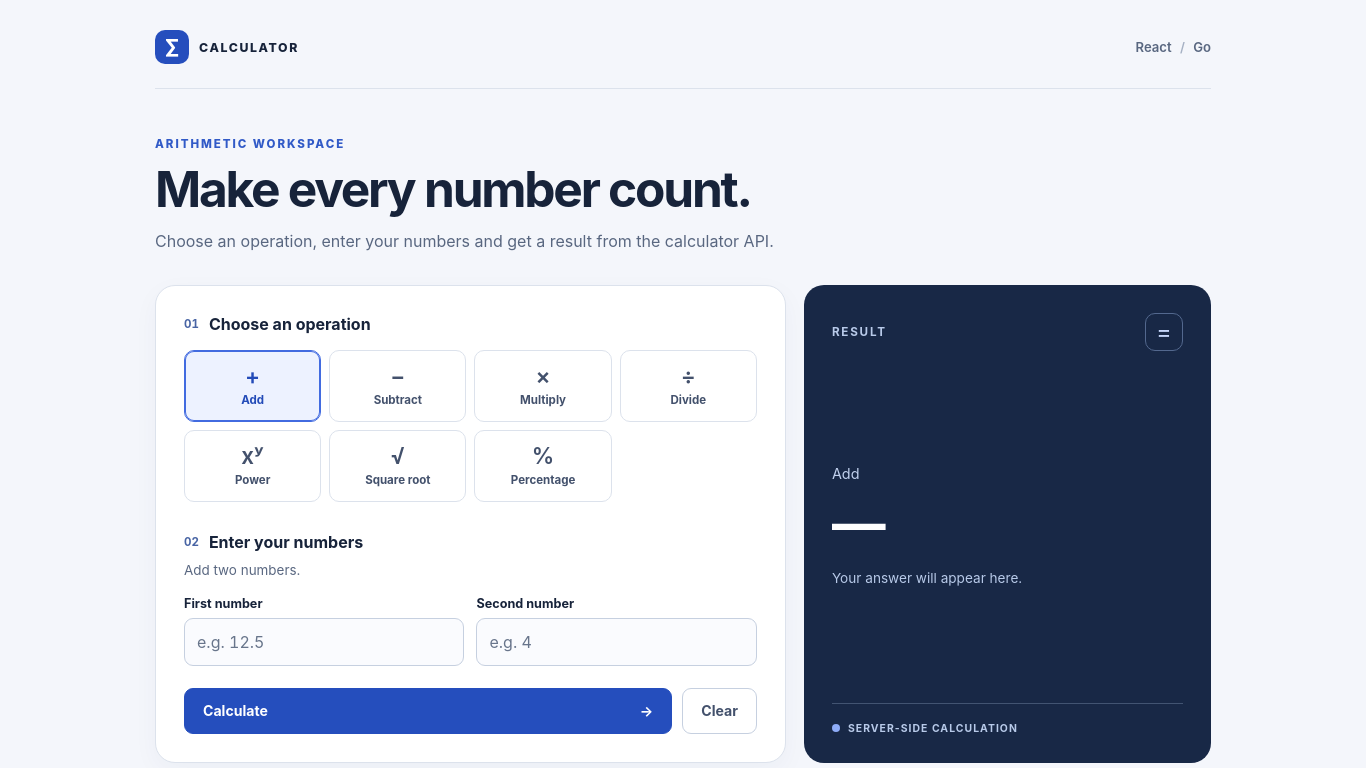
calculator interface › renders zero and clears stale results when a number is edited
This screenshot has width=1366, height=768.
Type "0" into the field labelled "First number" at [324, 642], box 184,618 -> 464,666
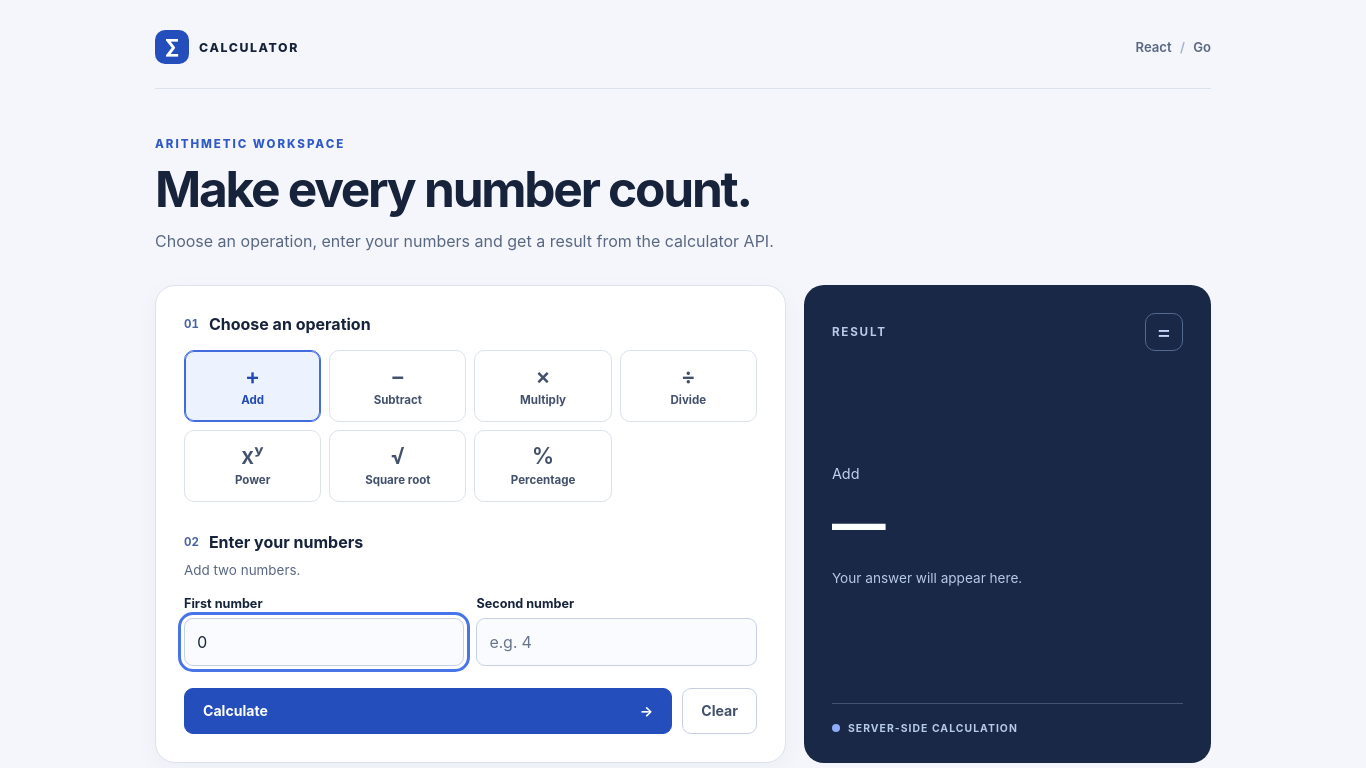
Type "0" into the field labelled "Second number" at [617, 642], box 476,618 -> 757,666
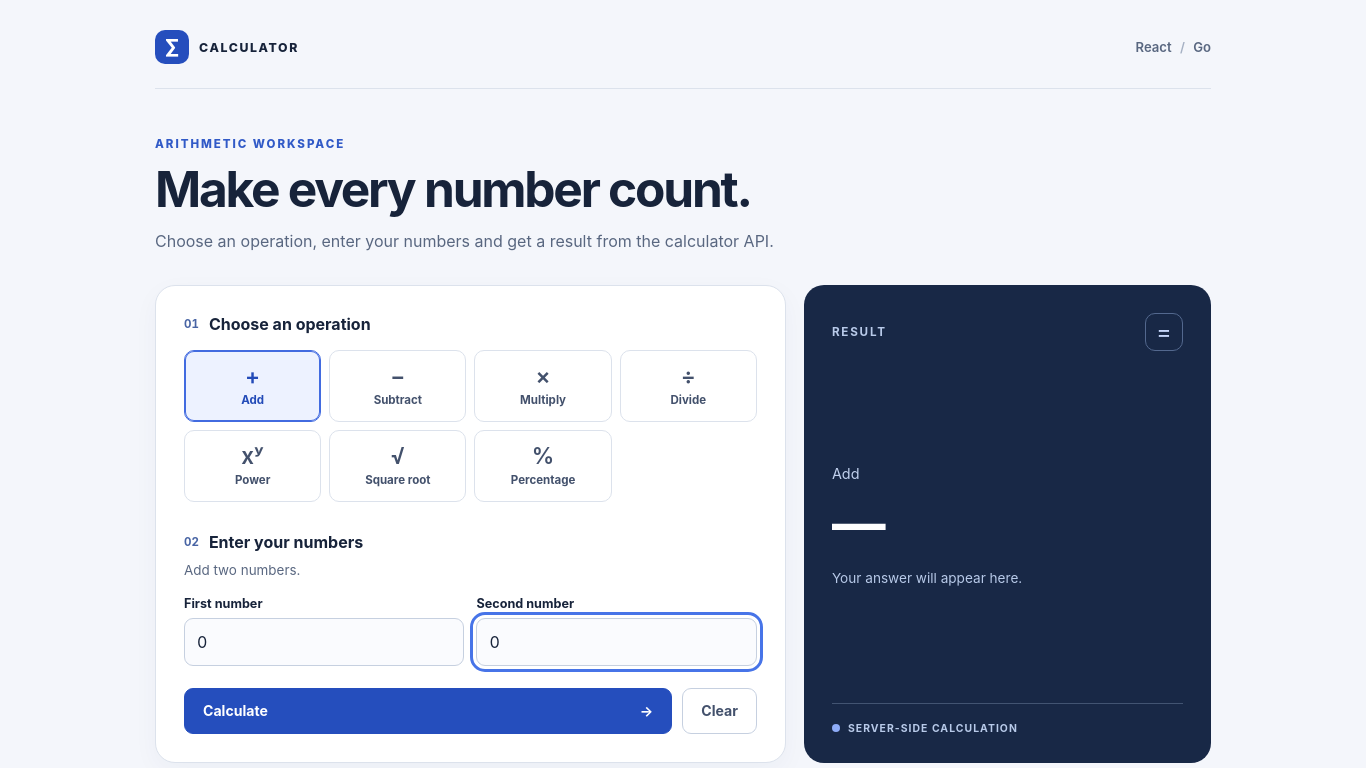
Click the button "Calculate →" at [235, 711], box 184,688 -> 672,734
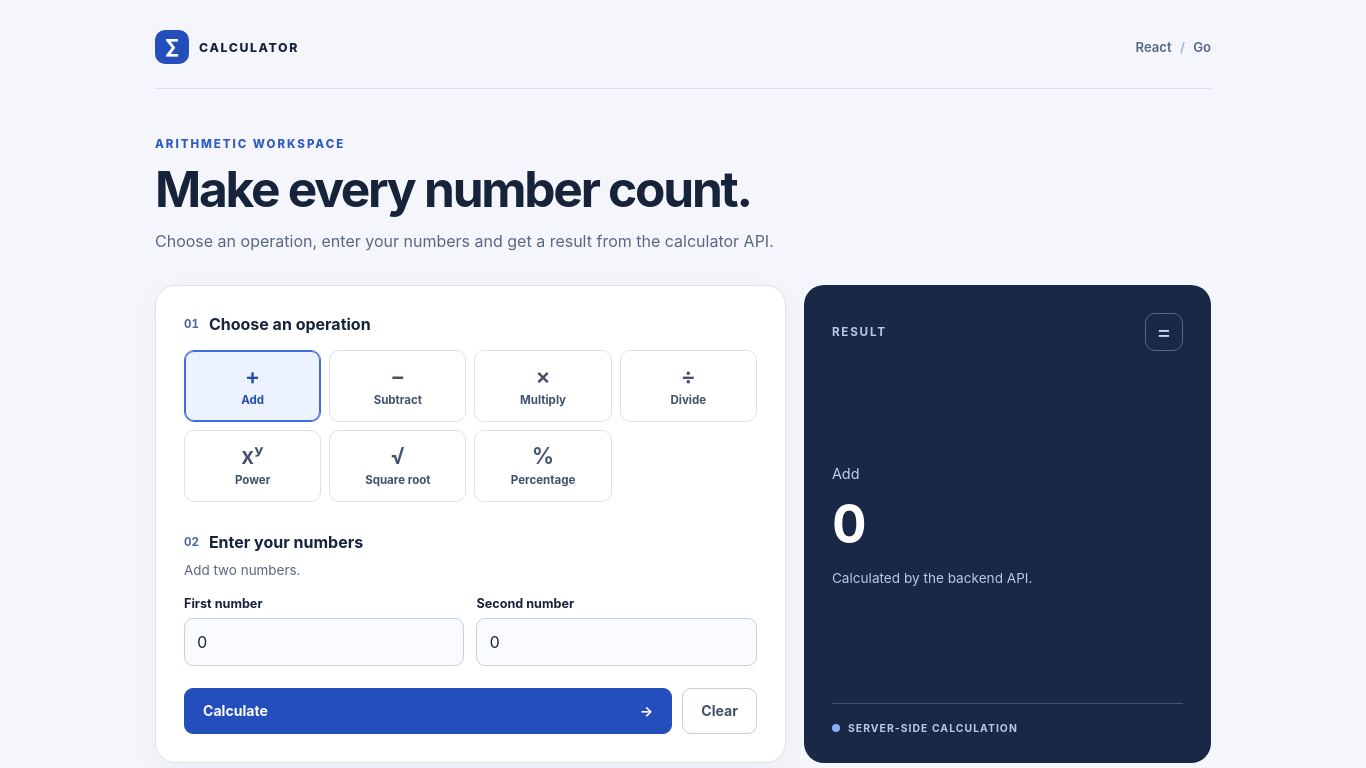
Result: the text named "Result" reads "0" at 832,491 -> 864,556
Type "1" into the field labelled "First number" at [324, 642], box 184,618 -> 464,666
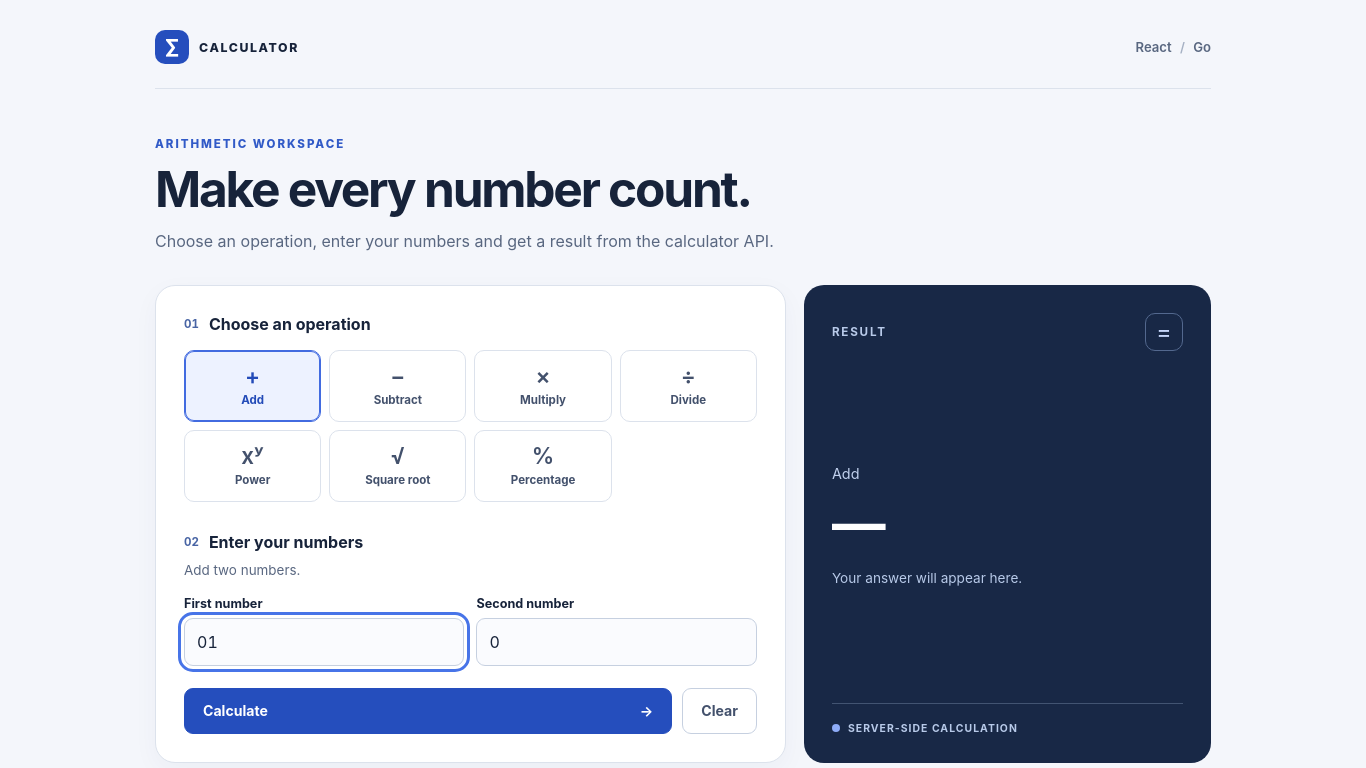
Result: the text named "Result" reads "—" at 832,491 -> 883,556
